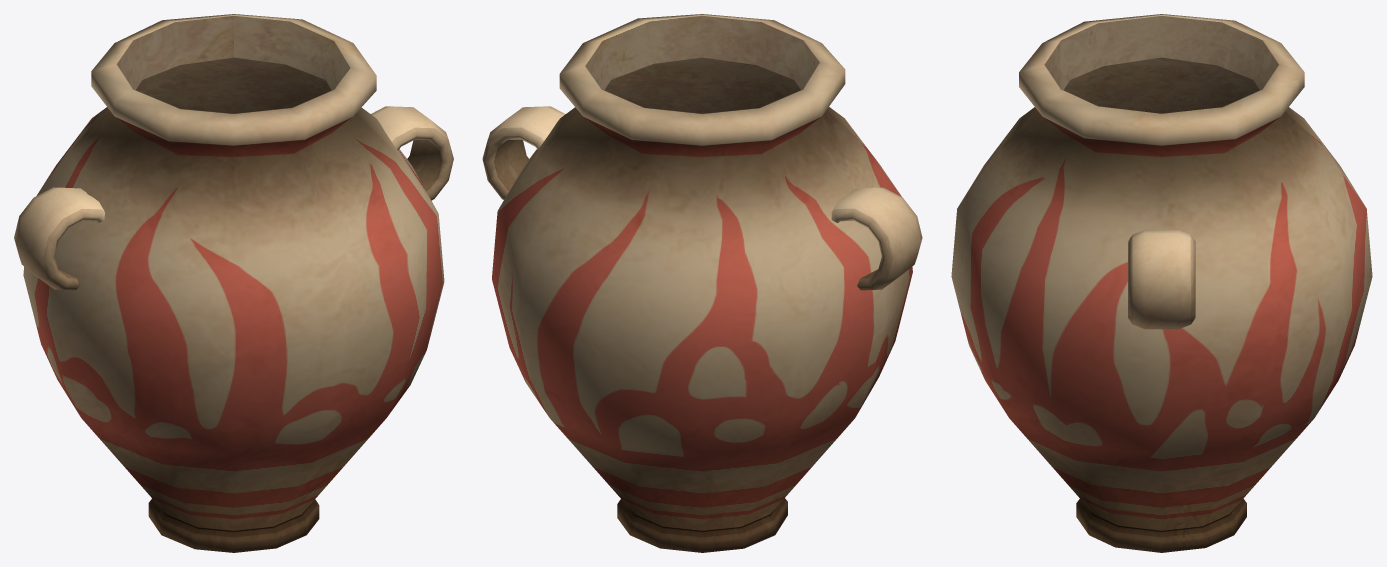
Rendered from VesselFire02.FBX.
The picture shows the model from 3 angles, left to right: view 1: azimuth 30°, elevation 25°; view 2: azimuth 150°, elevation 25°; view 3: azimuth 270°, elevation 25°; orthographic projection.
Visible parts, largest first — view 1: vasija2; view 2: vasija2; view 3: vasija2.
Part boxes in pixels (box(x1,y1,x2,y2)): vasija2: box(14, 14, 453, 552); vasija2: box(482, 14, 922, 552); vasija2: box(951, 14, 1372, 552).
Size of the model in its own units: 0.6667 by 0.5801 by 0.6881.
